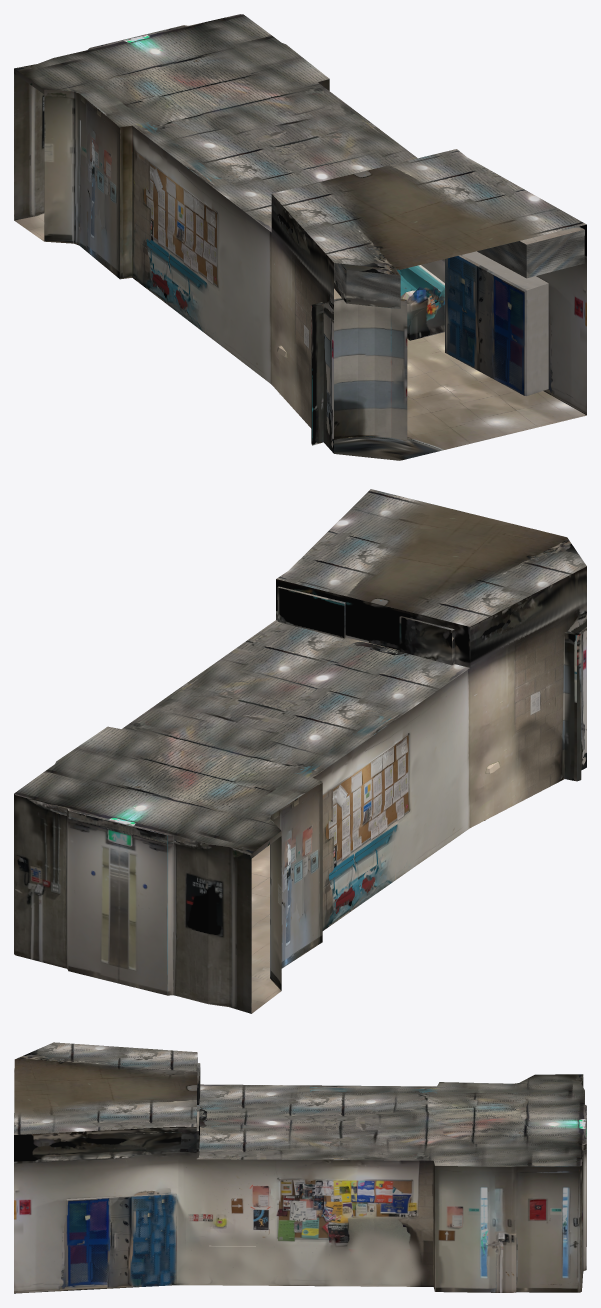
Rendered from 1_corridor_1v2.fbx.
3 views of the same model, one above another, from view 1: azimuth 30°, elevation 25°; view 2: azimuth 150°, elevation 25°; view 3: azimuth 270°, elevation 25° (orthographic). The views are drawn at different scales.
Visible parts, largest first — view 1: 1_corridor_1v2; view 2: 1_corridor_1v2; view 3: 1_corridor_1v2.
Part boxes in pixels (x1=…): 1_corridor_1v2: x1=14, y1=14, x2=586, y2=460; 1_corridor_1v2: x1=14, y1=489, x2=586, y2=1013; 1_corridor_1v2: x1=14, y1=1042, x2=586, y2=1293.
Size of the model in its own units: 411 by 322 by 1036.
Materials: 1 (1 with a texture image).
